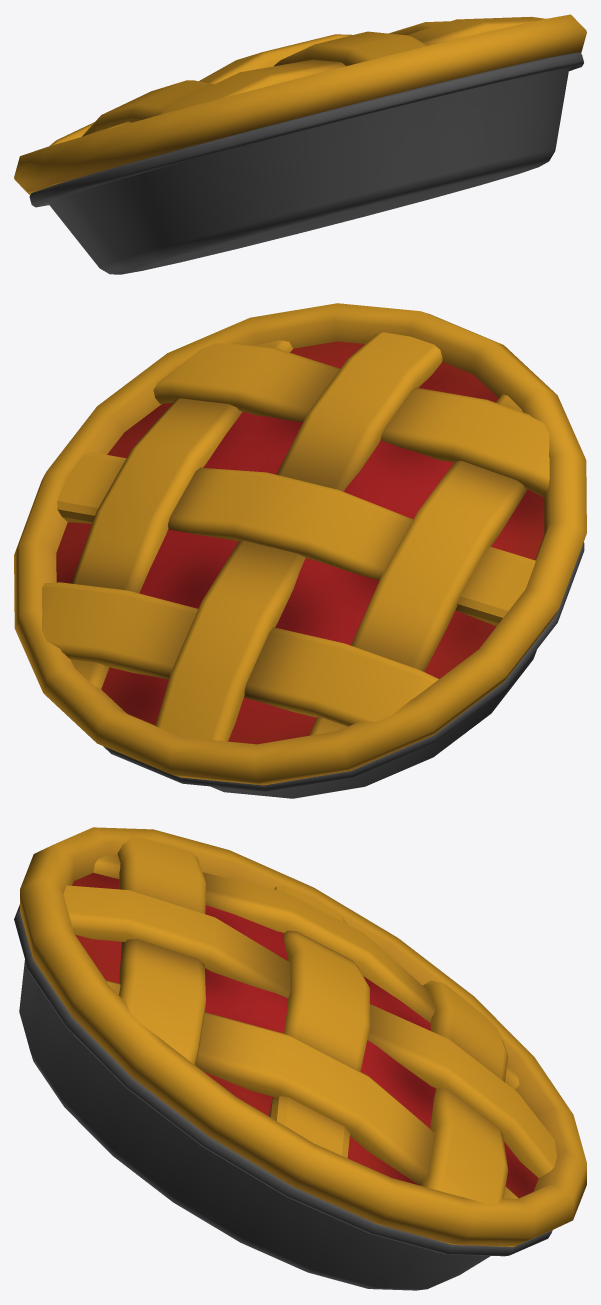
The picture shows the model from 3 angles, top to bottom: view 1: azimuth 30°, elevation 25°; view 2: azimuth 150°, elevation 25°; view 3: azimuth 270°, elevation 25°; orthographic projection. The views are drawn at different scales.
Visible parts, largest first — view 1: pie; view 2: pie; view 3: pie.
Boxes of the visible parts, <box> form: pie: <box>14,14,586,274</box>; pie: <box>14,303,586,798</box>; pie: <box>14,827,586,1290</box>.
Bounding box in the file's own units: 11.81 × 7.4 × 10.34.
Materials: 1 (1 with a texture image).
